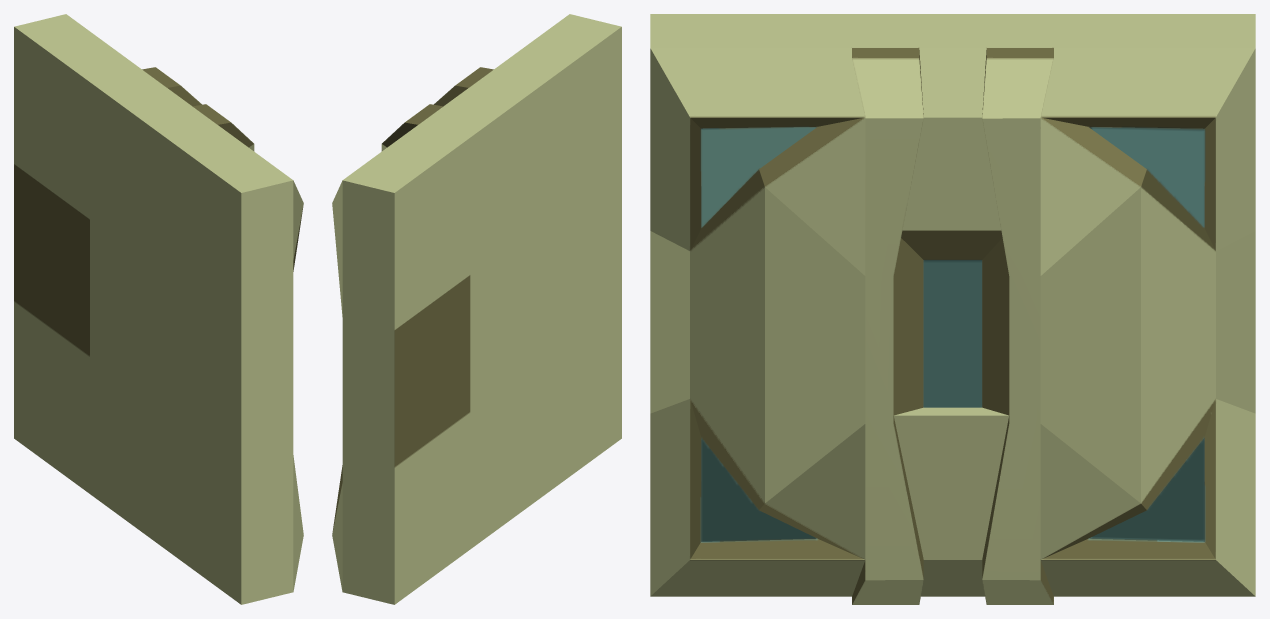
File: modularWall-Set3.fbx
The picture shows the model from 3 angles, left to right: view 1: azimuth 30°, elevation 25°; view 2: azimuth 150°, elevation 25°; view 3: azimuth 270°, elevation 25°; orthographic projection. The views are drawn at different scales.
Visible parts, largest first — view 1: Cube; view 2: Cube; view 3: Cube.
Boxes of the visible parts, <box> form: Cube: <box>14,14,303,604</box>; Cube: <box>332,14,621,604</box>; Cube: <box>650,14,1255,604</box>.
Size of the model in its own units: 120 by 500 by 500.
